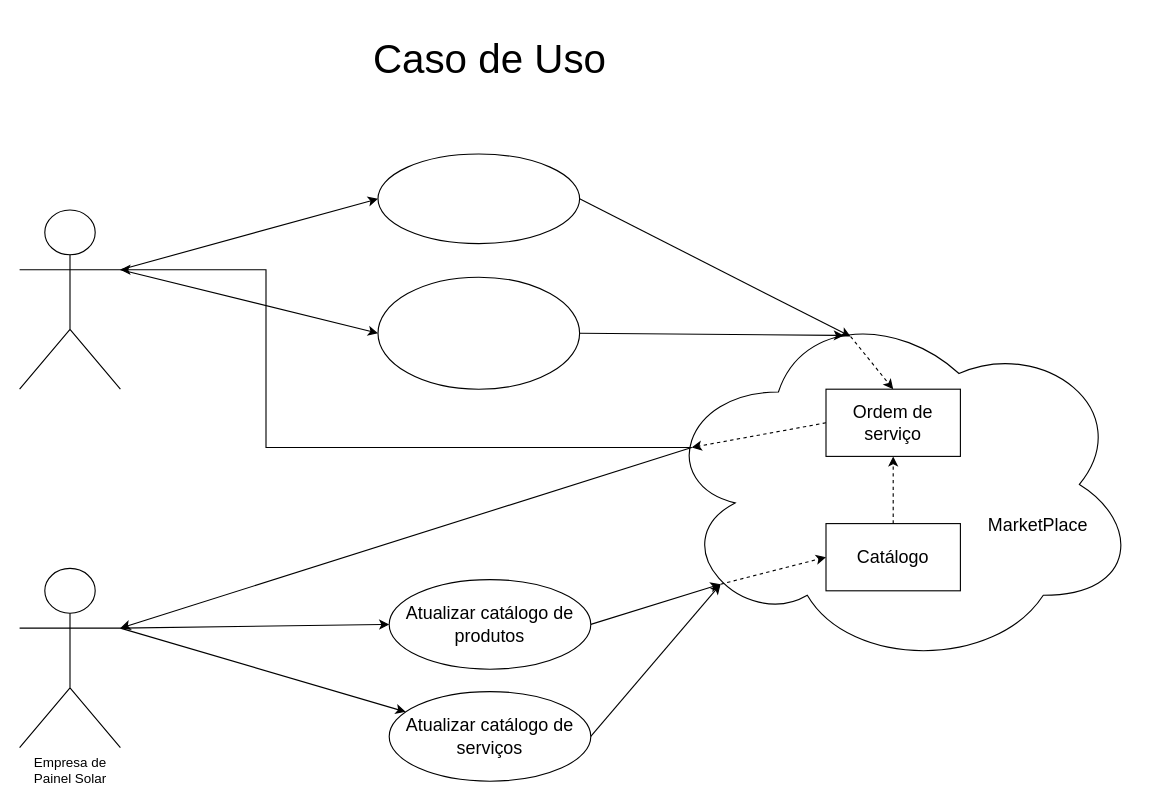
The diagram is 1159 pixels wide and 806 high, and some of its shapes have lost their labels. The centre of each missing label's shape, as x and y in pixels:
"Cliente" belongs at (x=69, y=299).
"Manutenção de painel solar" belongs at (x=478, y=332).
"Projeto de painel solar" belongs at (x=478, y=198).
